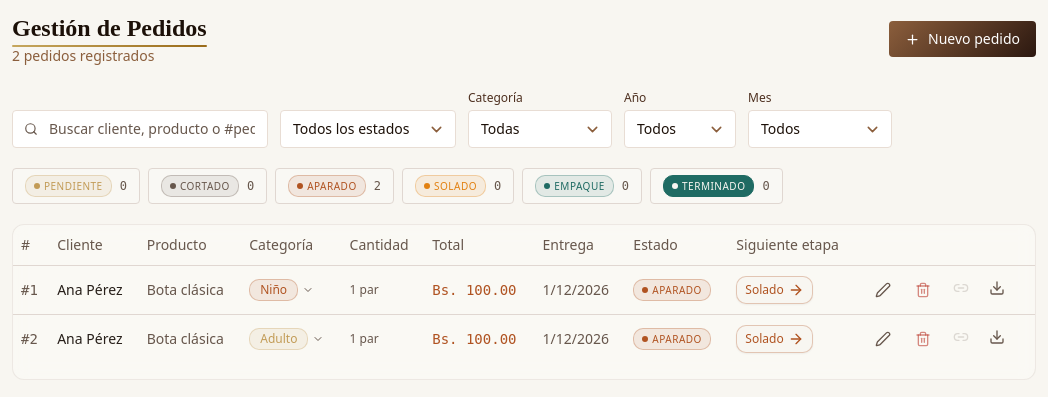
Test: PedidosView — filtro por categoría › filtra por categoría "Niño" comparando contra el valor interno sin tilde
The width and height of the screenshot is (1048, 397).
Expected: the text "#1" is shown, [13, 265, 49, 314]
Select "Niño" in the 2nd dropdown at x=540, y=129, box [468, 110, 612, 148]
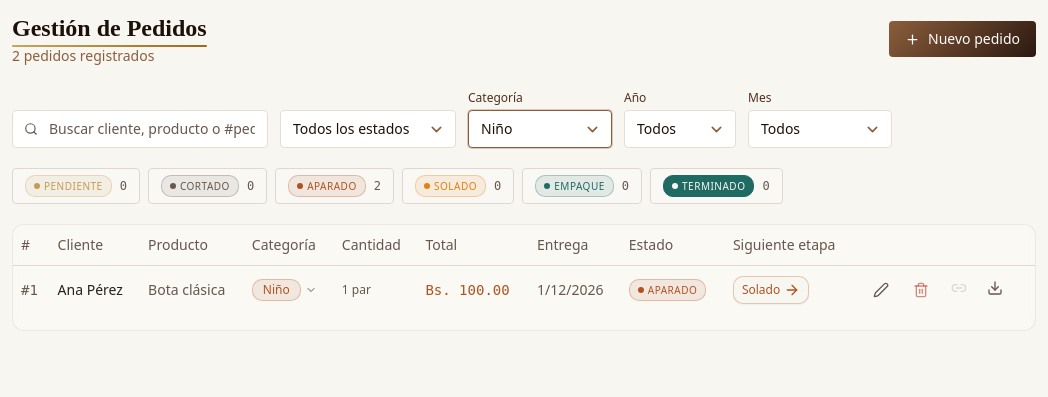
Expected: the text "#1" is shown, [13, 265, 50, 314]
Expected: the text "#2" is gone
